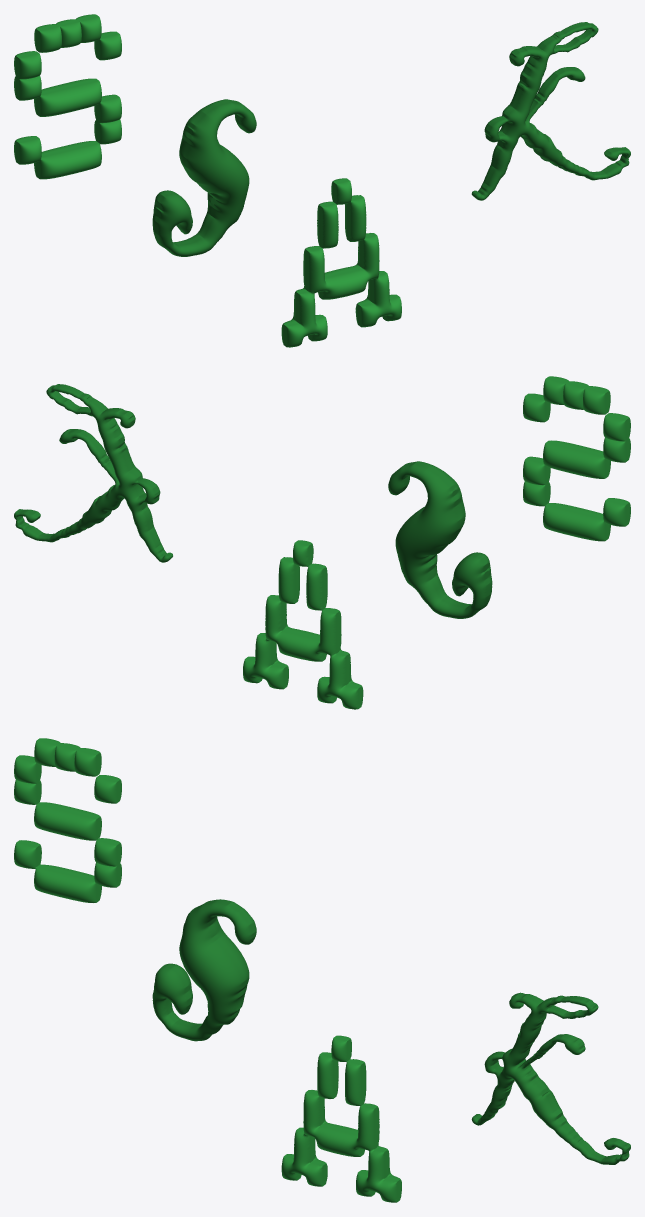
File: 메인 페이지.glb
3 views of the same model, one above another, from view 1: azimuth 30°, elevation 25°; view 2: azimuth 150°, elevation 25°; view 3: azimuth 330°, elevation 25° (orthographic).
Parts seen in each view (by area): view 1: groupNumber_0.002, groupNumber_0.001, groupNumber_0.003, groupNumber_0; view 2: groupNumber_0.002, groupNumber_0.001, groupNumber_0.003, groupNumber_0; view 3: groupNumber_0.002, groupNumber_0.003, groupNumber_0.001, groupNumber_0.
Part boxes in pixels (<box>): groupNumber_0.002: <box>14,14,121,179</box>; groupNumber_0.001: <box>281,178,401,347</box>; groupNumber_0.003: <box>152,99,256,256</box>; groupNumber_0: <box>471,22,630,200</box>; groupNumber_0.002: <box>523,376,630,541</box>; groupNumber_0.001: <box>243,540,363,709</box>; groupNumber_0.003: <box>388,461,492,618</box>; groupNumber_0: <box>14,384,172,562</box>; groupNumber_0.002: <box>14,738,121,902</box>; groupNumber_0.003: <box>152,899,256,1041</box>; groupNumber_0.001: <box>281,1035,401,1202</box>; groupNumber_0: <box>471,992,630,1164</box>.
Size of the model in its own units: 0.4018 by 0.2364 by 0.0364.
